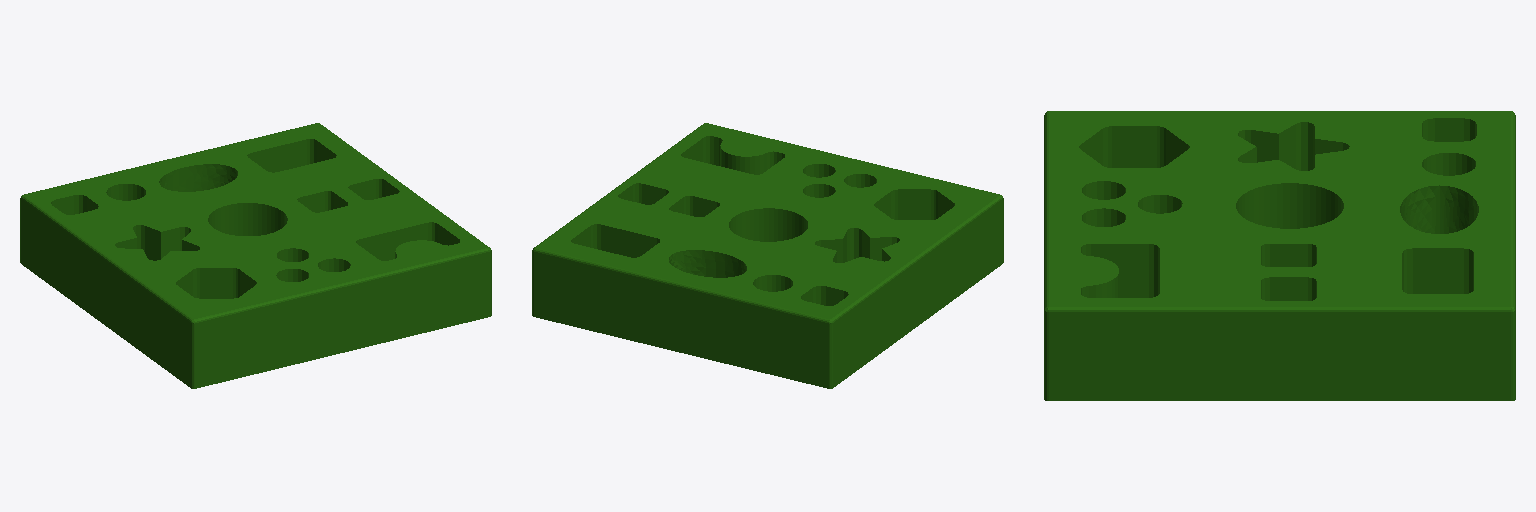
The robot description file, URDF, robot "Large_Board_Green":
<?xml version="1.0"?>
<robot name="Large_Board_Green">
    <link name="Large_Board_Green">
        <visual>
            <origin xyz="0 0 0.03" rpy="0 0 0" />
            <geometry>
                <mesh filename="../mesh/factory_insertion/Large_Board_Green.obj" scale="0.001 0.001 0.001"/>
            </geometry>
            <material name="Green">
              <color rgba="0.21 0.46 0.11 0.0"/>
            </material>
        </visual>
        <collision>
            <geometry>
                <mesh filename="../mesh/factory_insertion/Large_Board_Green.obj" scale="0.001 0.001 0.001"/>
            </geometry>
            <sdf resolution="256"/>
        </collision>
    </link>
    <!--
    <link name="world" />
    <joint name="world_joint"  type="fixed">
        <origin xyz="0 0 0" rpy="0 0 0" />
        <parent link="world"/>
        <child link="Large_Board_Green"/>
    </joint>
    -->
</robot>

--- What the picture shows (computed from the rendered views, not written in the file) ---
The picture shows the robot from 3 angles, left to right: view 1: azimuth 30°, elevation 25°; view 2: azimuth 150°, elevation 25°; view 3: azimuth 270°, elevation 25°; orthographic projection.
Robot: Large_Board_Green — 1 links, 0 joints (none); root link Large_Board_Green; default pose: every joint at zero.
Visible links, largest first — view 1: Large_Board_Green; view 2: Large_Board_Green; view 3: Large_Board_Green.
Boxes of the visible links, x1,y1,x2,y2 form: Large_Board_Green: (20, 123, 491, 388); Large_Board_Green: (532, 123, 1003, 388); Large_Board_Green: (1044, 111, 1515, 400).
Size in the robot's own frame: 0.23 by 0.23 by 0.05 metres.
1 mesh visuals loaded from 1 distinct referenced files (1 OBJ).
